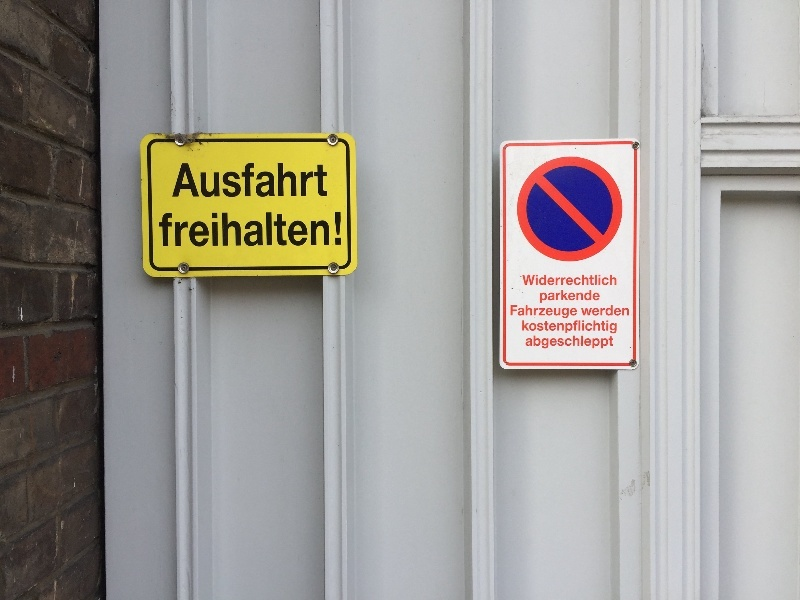text: (161, 211, 176, 248), (177, 211, 192, 248), (193, 211, 208, 248), (209, 211, 224, 248), (225, 211, 240, 248), (241, 211, 256, 248), (257, 211, 272, 248), (273, 211, 288, 248), (289, 211, 304, 248), (305, 211, 320, 248), (321, 211, 336, 248), (193, 163, 208, 198), (209, 163, 224, 198), (225, 163, 240, 198), (241, 163, 256, 198), (257, 163, 272, 198), (273, 163, 288, 198), (289, 163, 304, 198), (305, 163, 320, 198), (182, 163, 192, 198), (321, 163, 328, 198), (561, 305, 577, 319), (513, 305, 528, 319), (529, 305, 544, 319), (545, 305, 560, 319), (529, 335, 544, 349), (545, 335, 560, 349), (561, 335, 576, 349), (577, 335, 592, 349), (593, 335, 608, 349), (545, 290, 560, 303), (561, 290, 576, 303), (577, 290, 592, 303), (529, 321, 544, 334), (545, 321, 560, 334), (561, 321, 576, 334), (577, 321, 592, 334), (593, 321, 608, 334), (529, 275, 544, 286), (545, 275, 560, 286), (561, 275, 576, 286), (577, 275, 592, 286), (593, 275, 608, 286), (593, 306, 608, 316), (609, 306, 624, 316), (337, 211, 341, 248), (581, 306, 592, 316), (609, 321, 617, 334), (593, 290, 600, 303), (609, 275, 617, 286), (522, 321, 528, 334), (609, 335, 614, 349), (522, 275, 528, 286), (540, 290, 544, 303), (625, 306, 629, 316), (159, 211, 160, 248), (526, 335, 528, 349), (511, 305, 512, 319)
